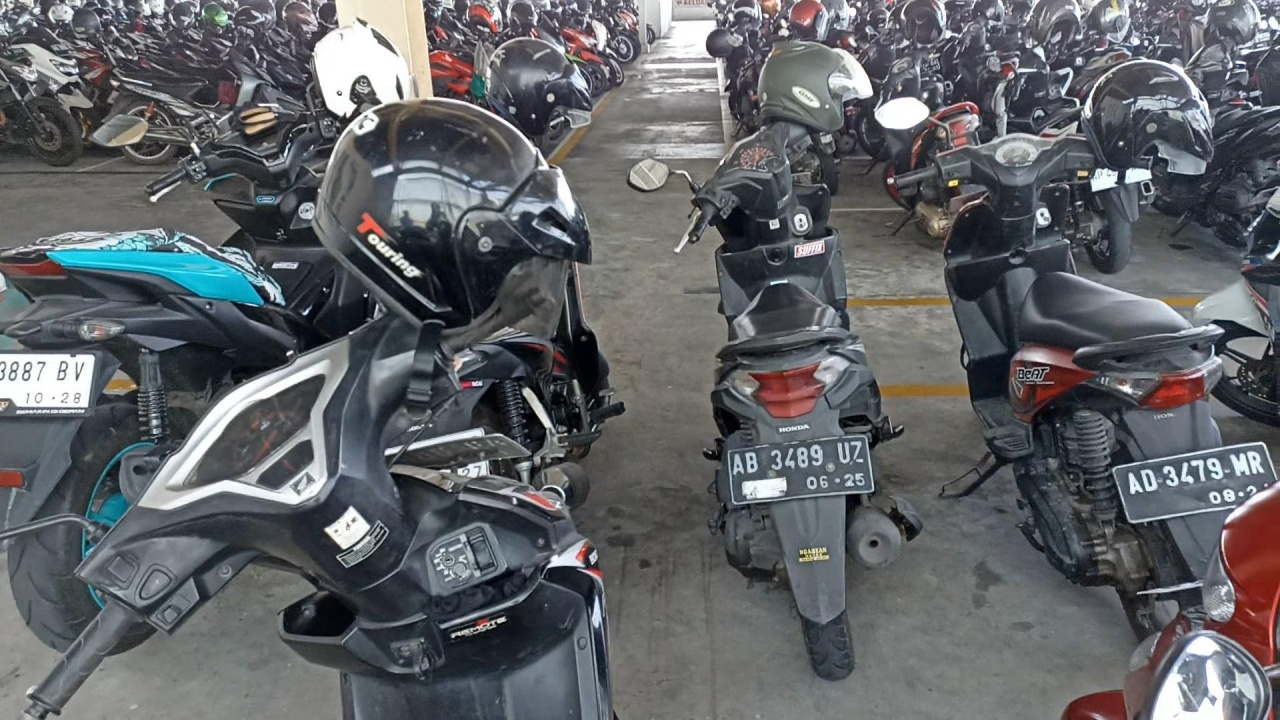plate: (1114, 442, 1278, 523), (730, 434, 876, 506)
